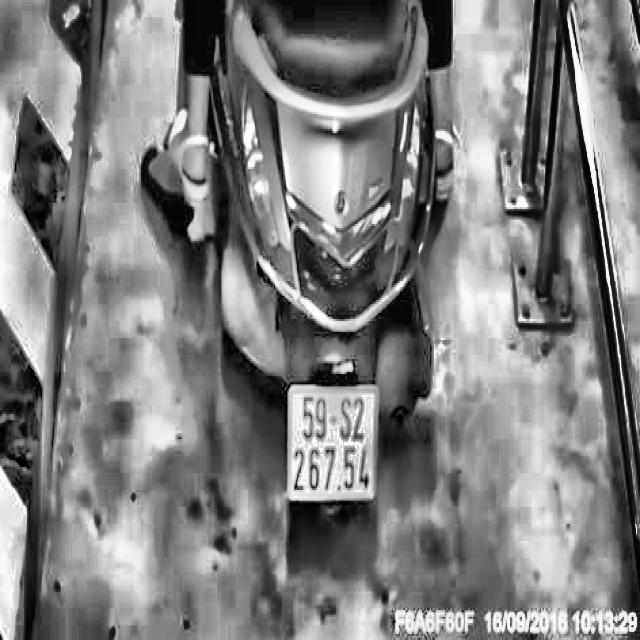plate: (282, 379, 382, 507)
